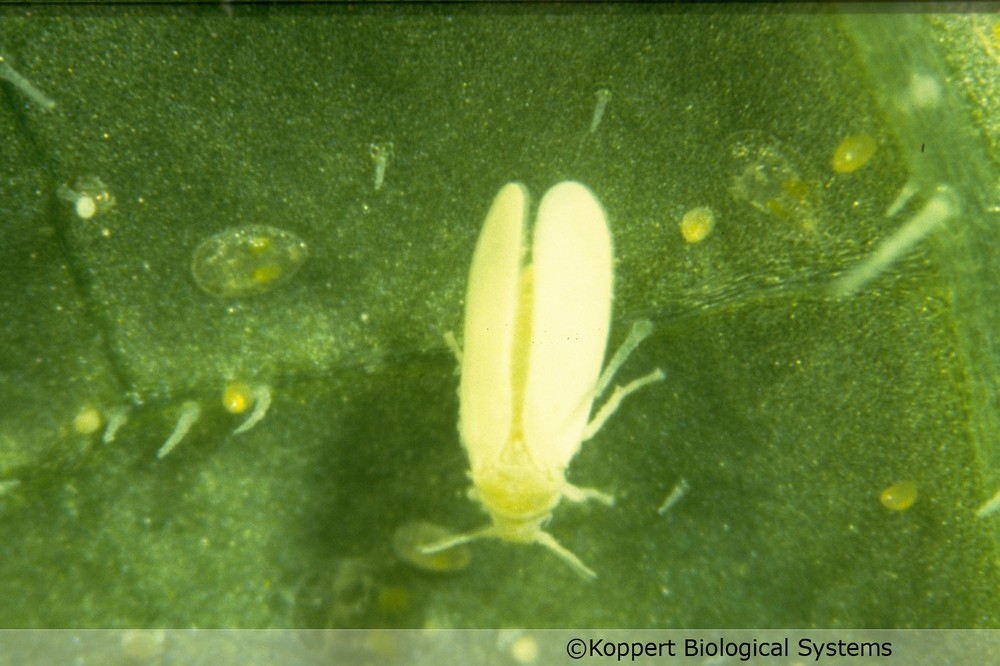Mosca Blanca: (414, 173, 648, 601)
